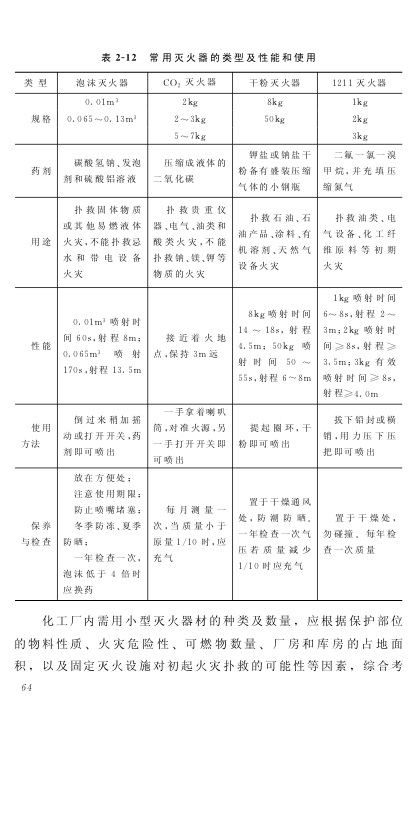table: (15, 71, 403, 602)
